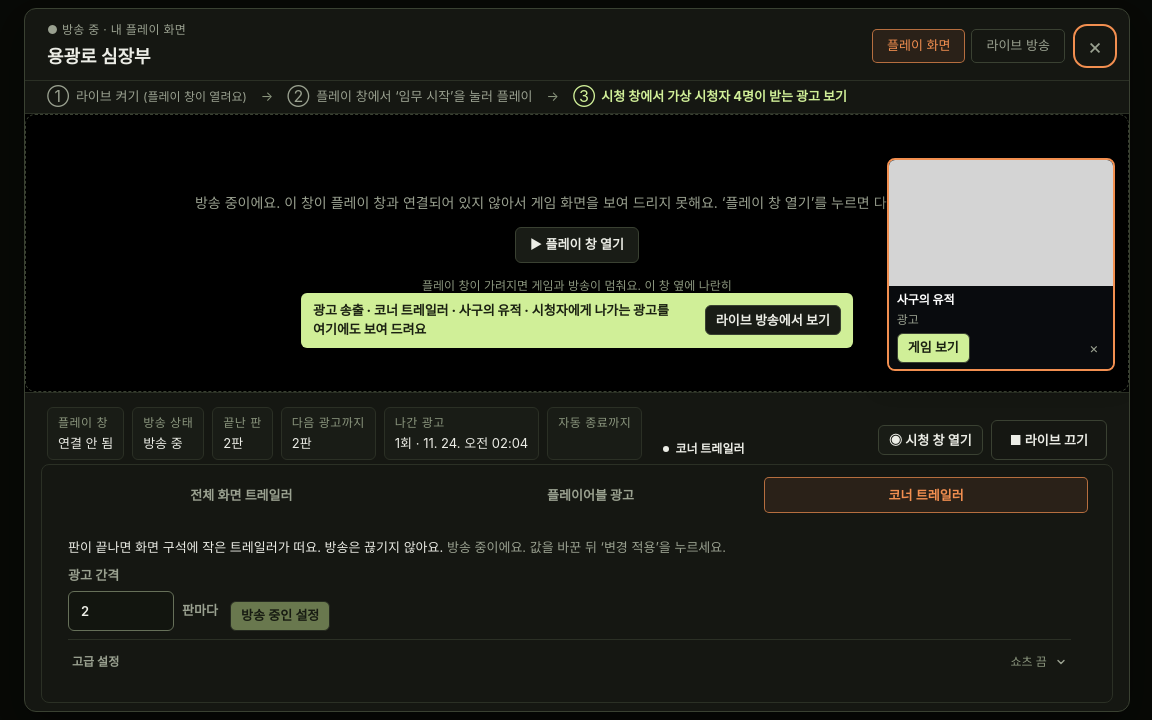
Test: the console shows the ad the viewers get › on the 플레이 화면 tab, with no cue from the stream: the banner names the ad and the corner trailer is drawn
The width and height of the screenshot is (1152, 720).
Expected: the message with class "console-ad" shows "광고 송출 · 코너 트레일러 · 사구의 유적", [301,293,853,348]
# the click switches tabs after the cue's frame has passed: the corner is still drawn
Step 1. Click the button "라이브 방송에서 보기" → {"x": 773, "y": 320}, box [705,305,841,335]
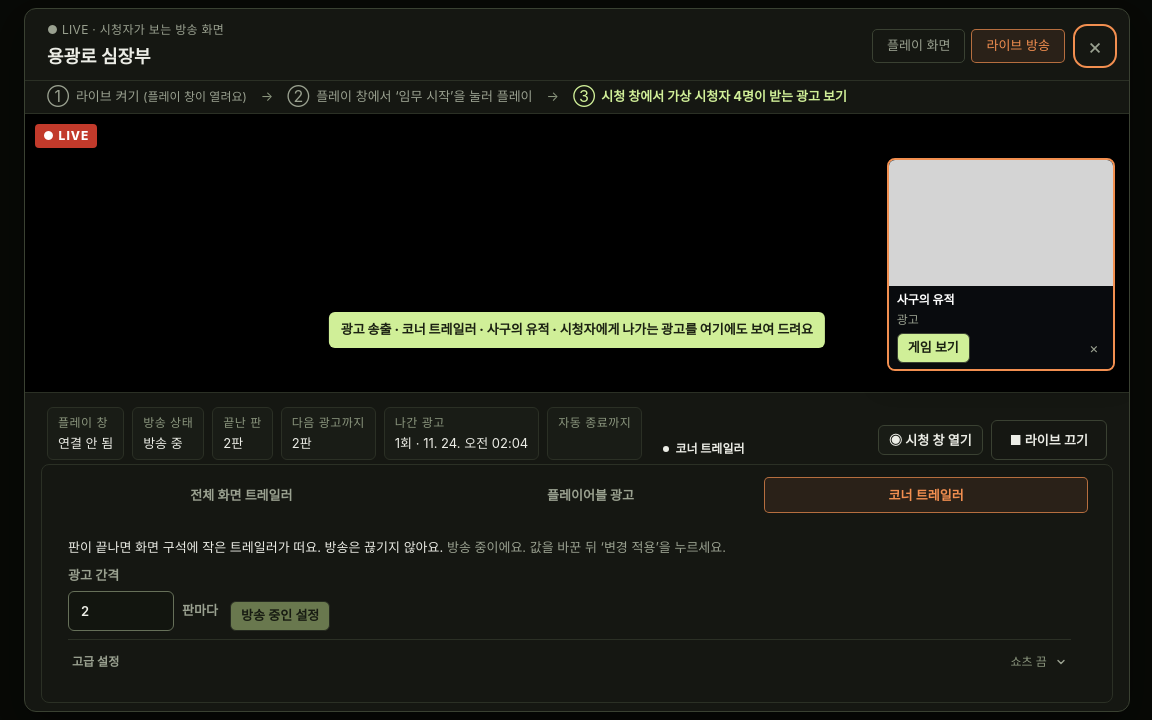
Expected: the tab with id "game-view-live" is selected, [971,28,1065,62]
